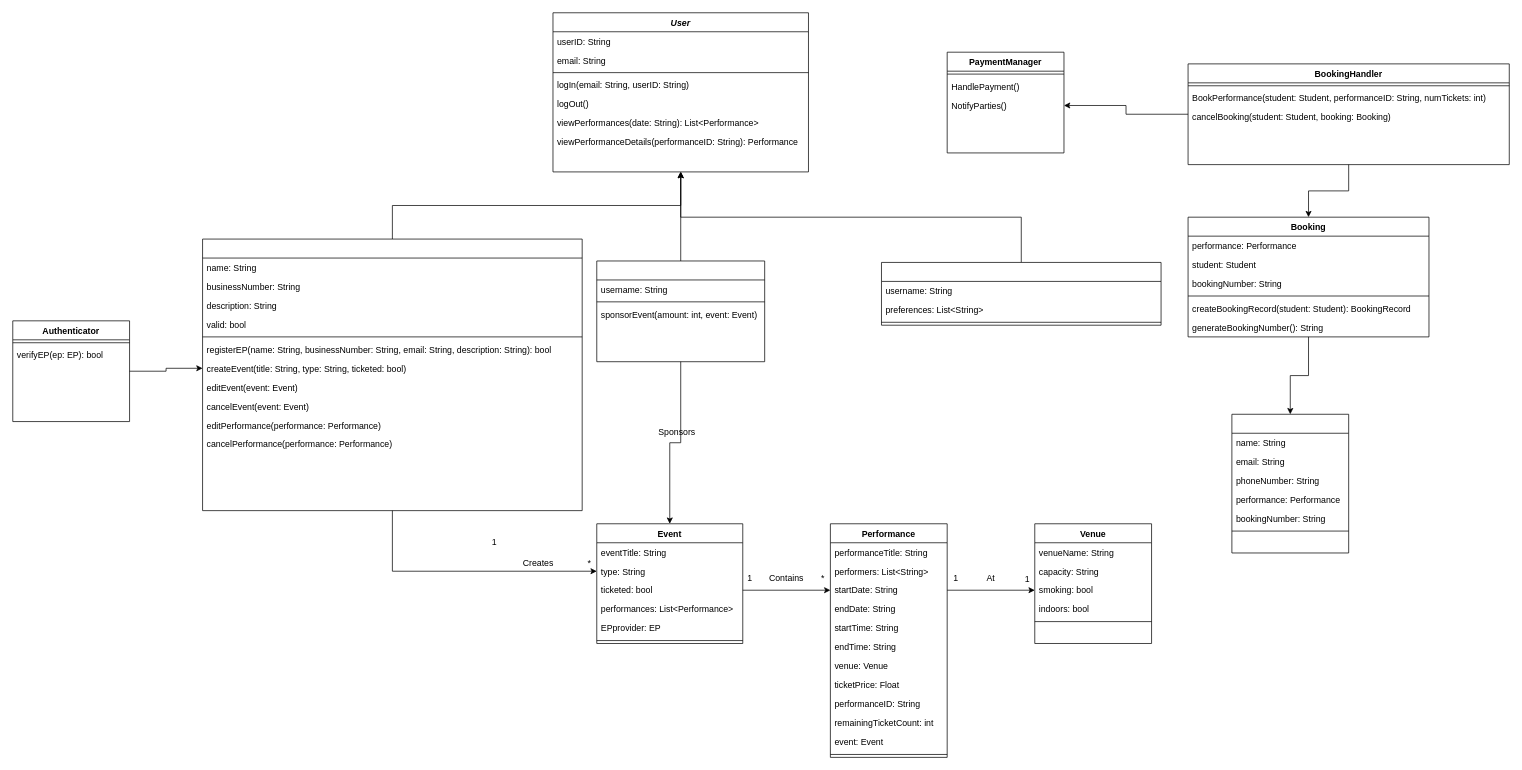
Image size: 1522x770. Some labels were removed from this diagram. Here are the shapes that lost their labels. From the top down, the box of each, then its label:
(596, 260, 765, 362): UniAdmin
(881, 262, 1161, 325): Student
(202, 238, 582, 511): EP
(1231, 414, 1349, 553): BookingRecord
